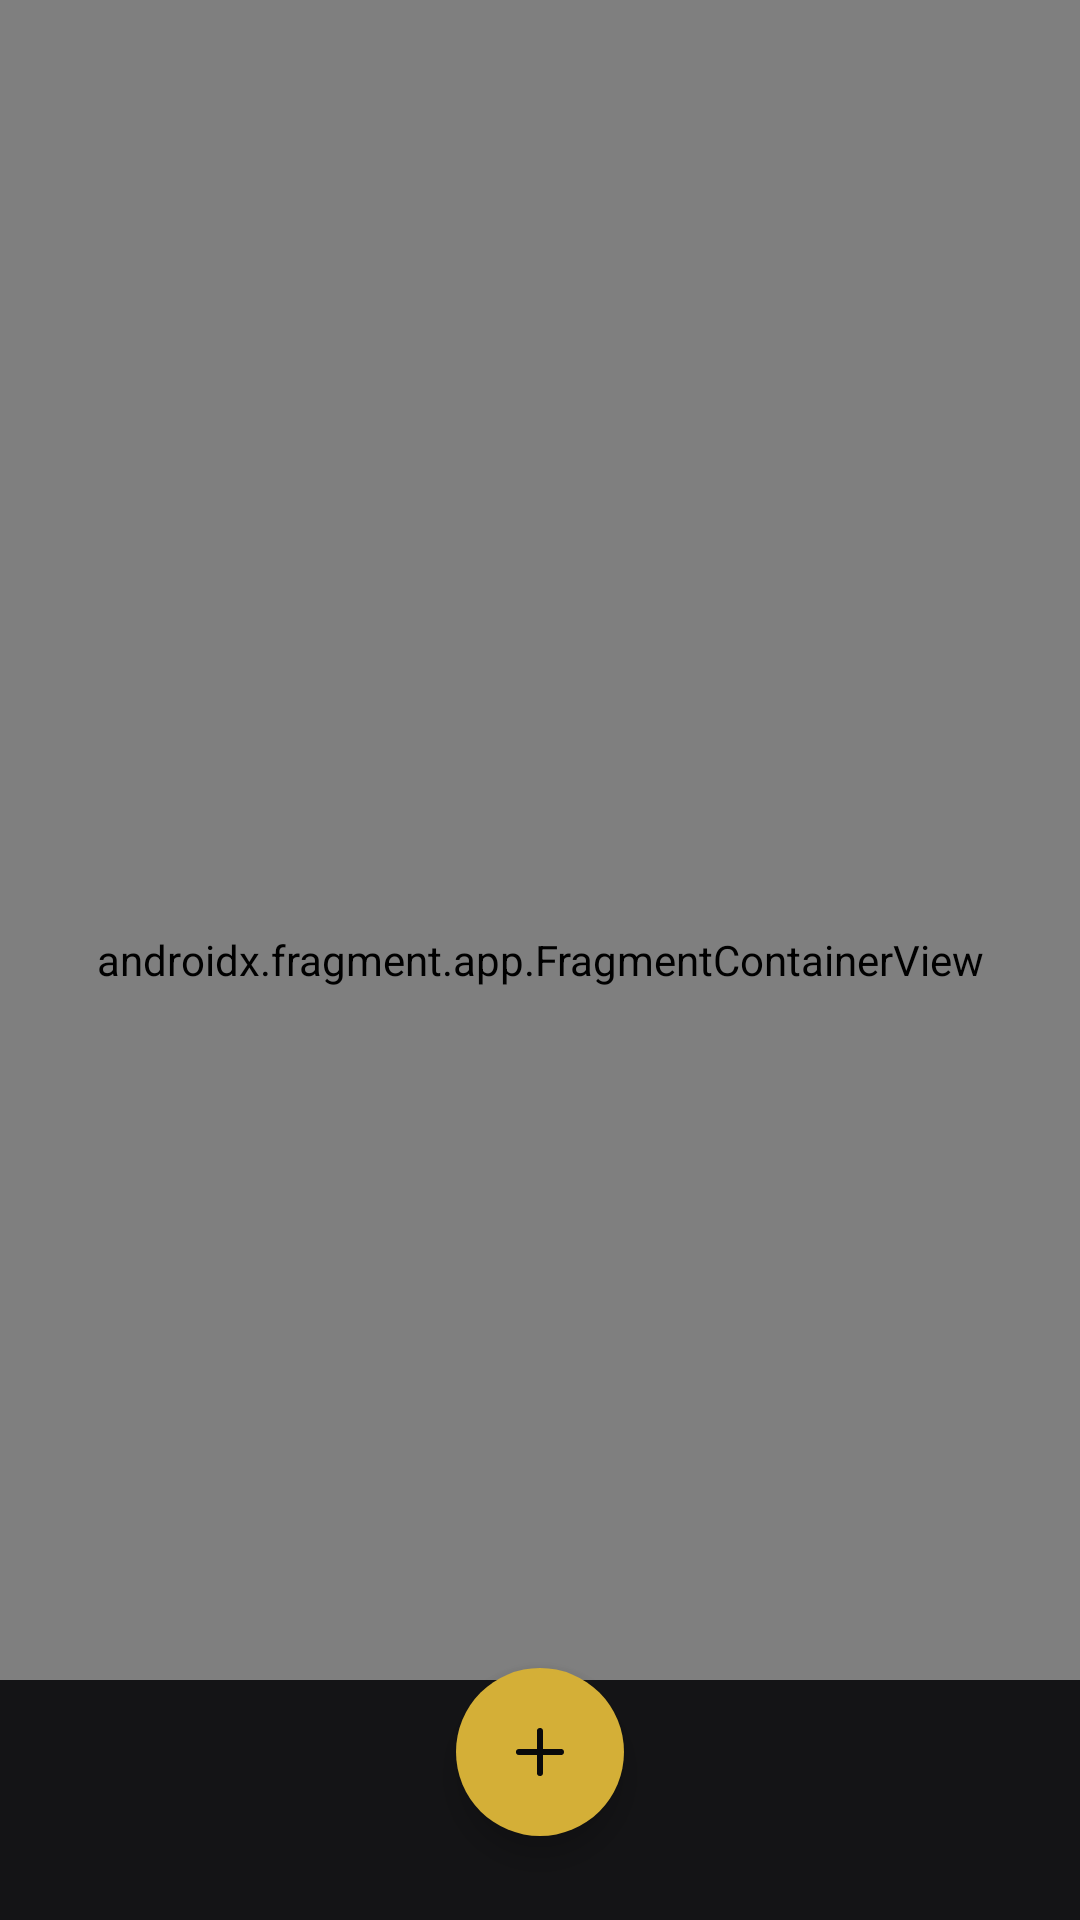

Icon bounding boxes for this 1080px×1920px phone screenshot, format (x1, y1, x2, y2):
Quick log: (456, 1668, 624, 1836)
